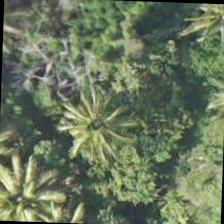Kelapa_Sawit: (0, 146, 60, 222)
